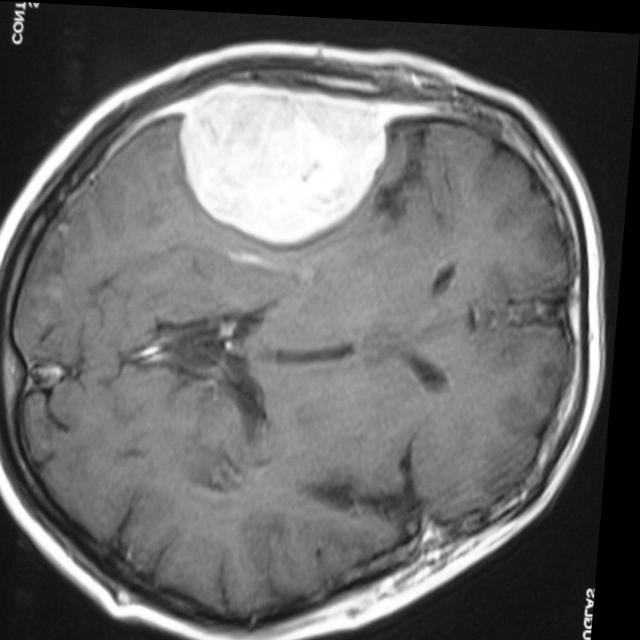Tumor: (184, 81, 392, 239)
